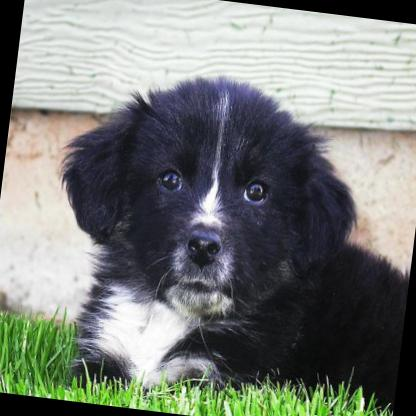Tibetan_mastiff: (33, 55, 416, 416)
